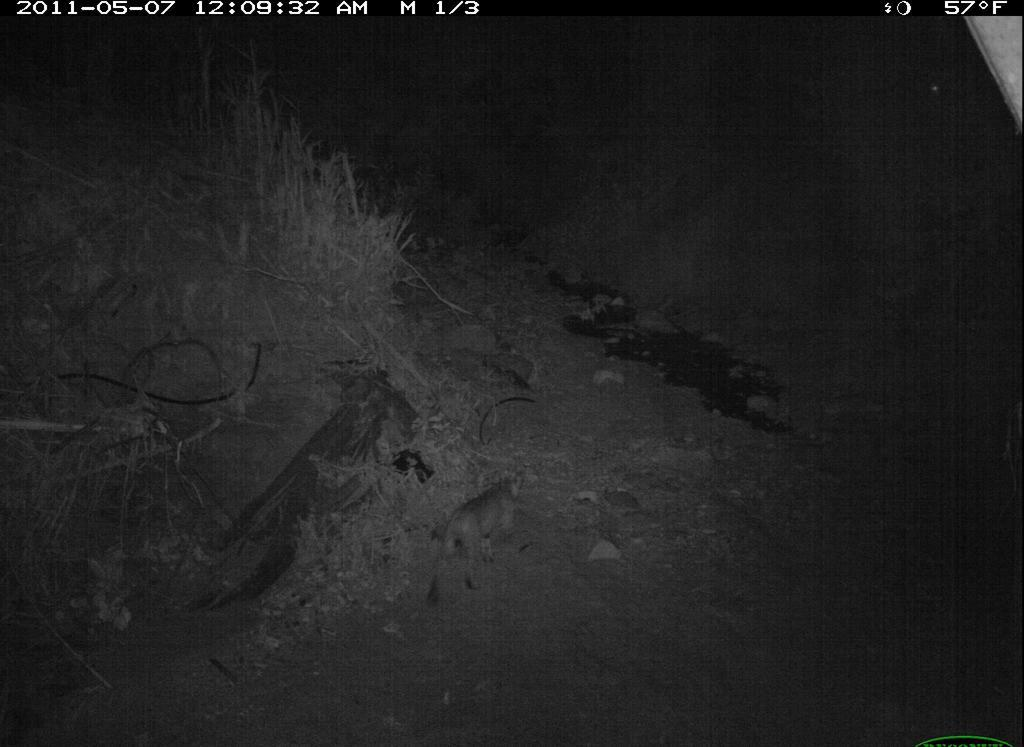bobcat: (423, 464, 528, 609)
